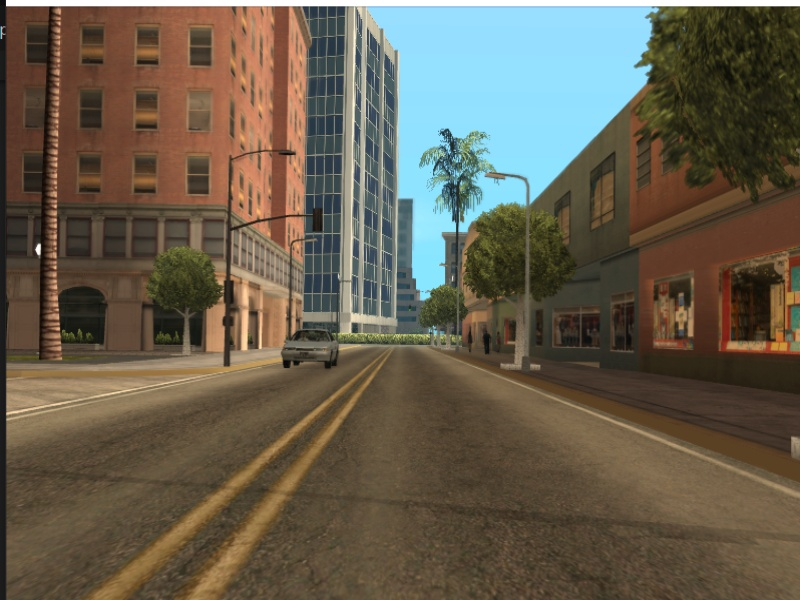person: (480, 328, 494, 356), (466, 328, 474, 355), (497, 330, 504, 353)
pole: (522, 175, 537, 366), (224, 156, 236, 372)
tree: (34, 11, 71, 363), (180, 307, 197, 362)
vehicle: (278, 326, 343, 373)
